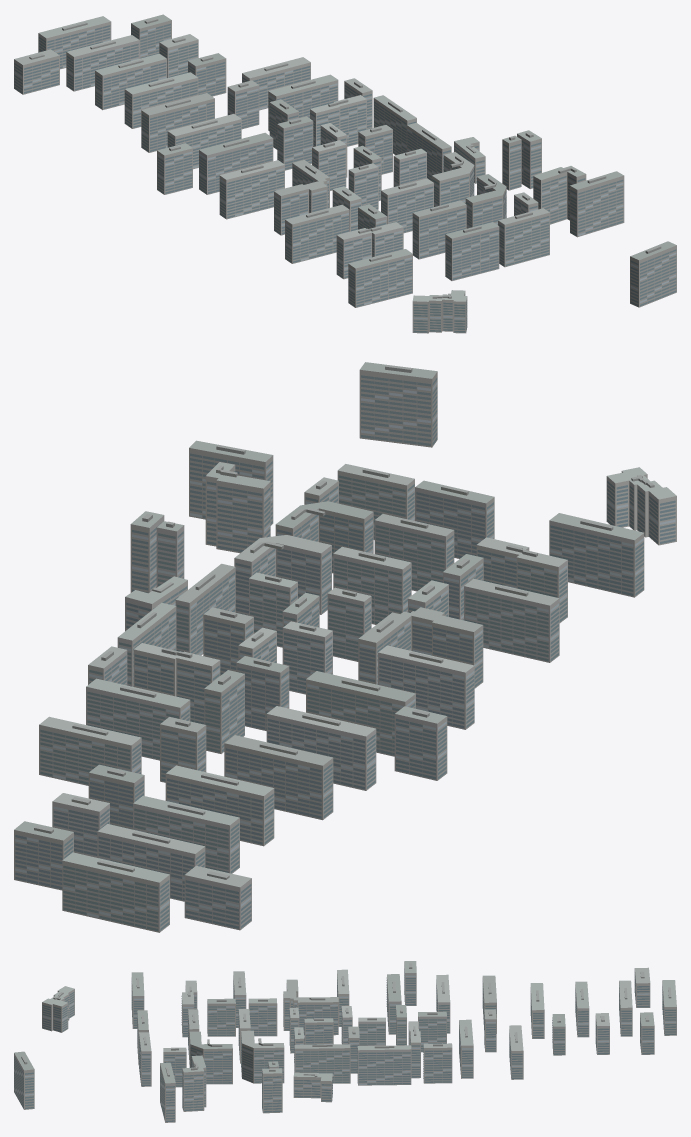
File: apt-a15792602.glb
3 views of the same model, one above another, from view 1: azimuth 30°, elevation 25°; view 2: azimuth 150°, elevation 25°; view 3: azimuth 270°, elevation 25° (orthographic). The views are drawn at different scales.
Visible parts, largest first — view 1: apt-a15792602; view 2: apt-a15792602; view 3: apt-a15792602.
Part boxes in pixels (x1,y1,x2,y2): apt-a15792602: [14, 14, 676, 333]; apt-a15792602: [14, 362, 676, 932]; apt-a15792602: [14, 961, 676, 1122].
Size of the model in its own units: 323 by 47.81 by 695.
